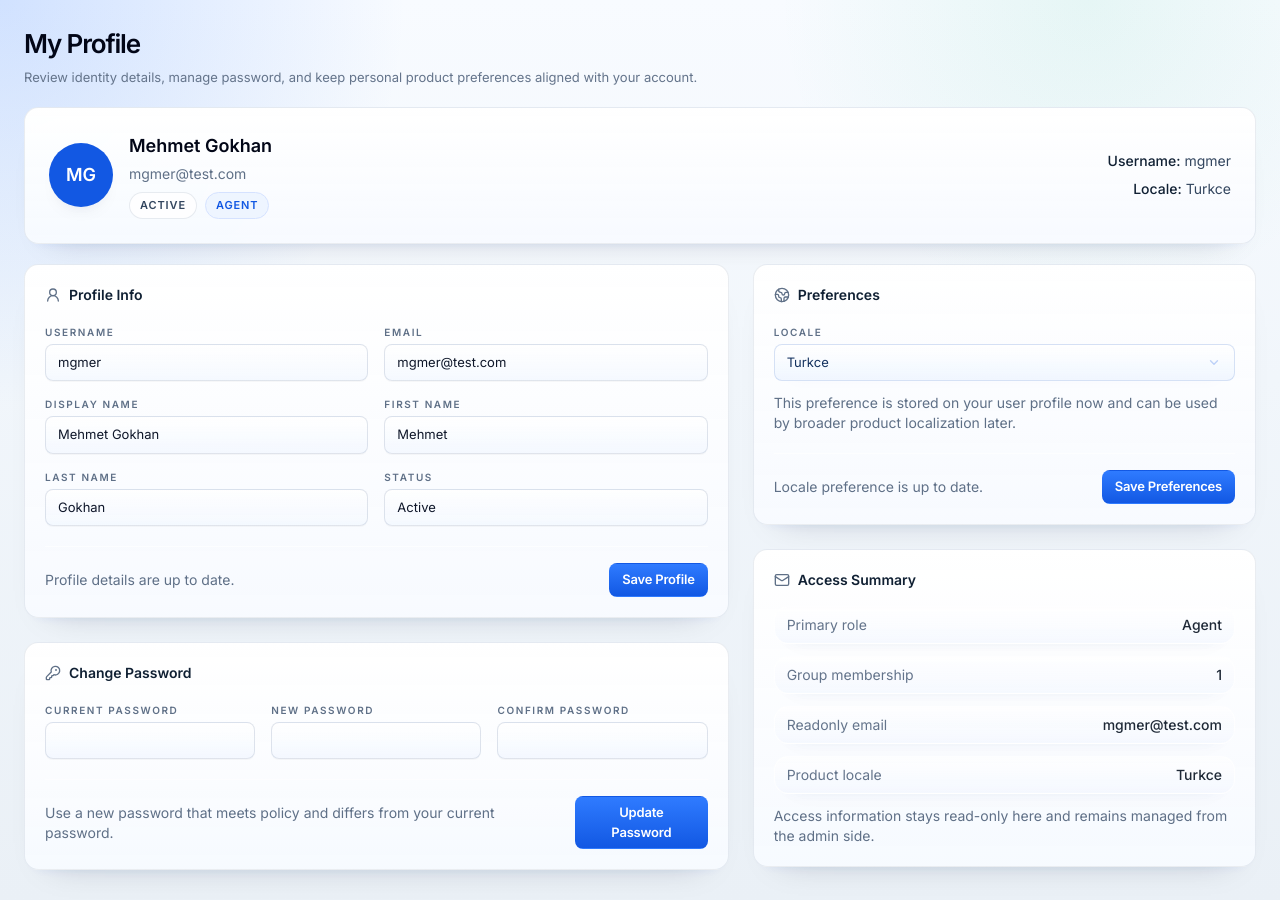
Scenario: ProfilePage › shows user-friendly backend password errors
Type "Current123" into the password field labelled "Current Password" at (150,740), box x1=45 y1=722 x2=255 y2=759
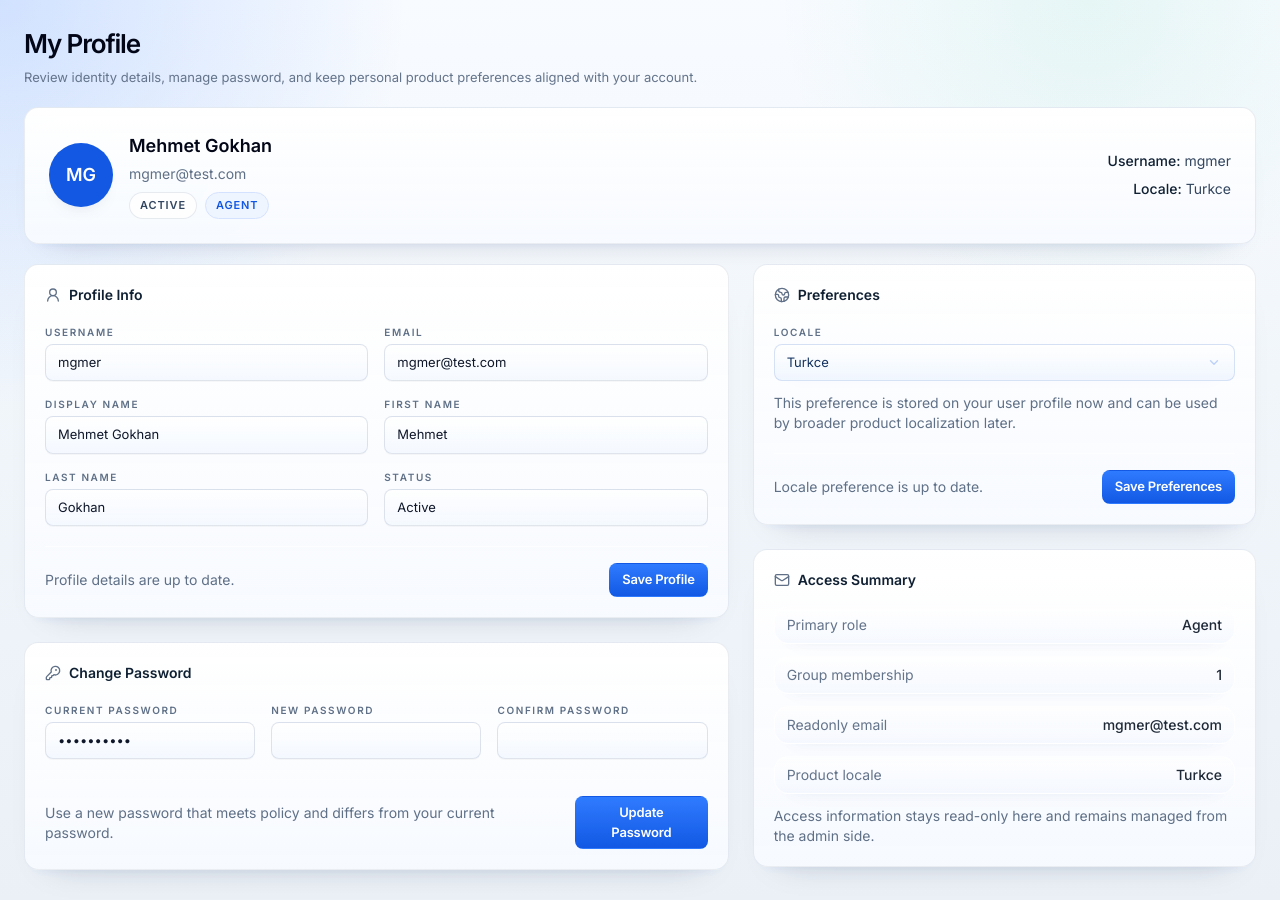
Type "NewPass123" into the password field labelled "New Password" at (376,740), box x1=271 y1=722 x2=481 y2=759
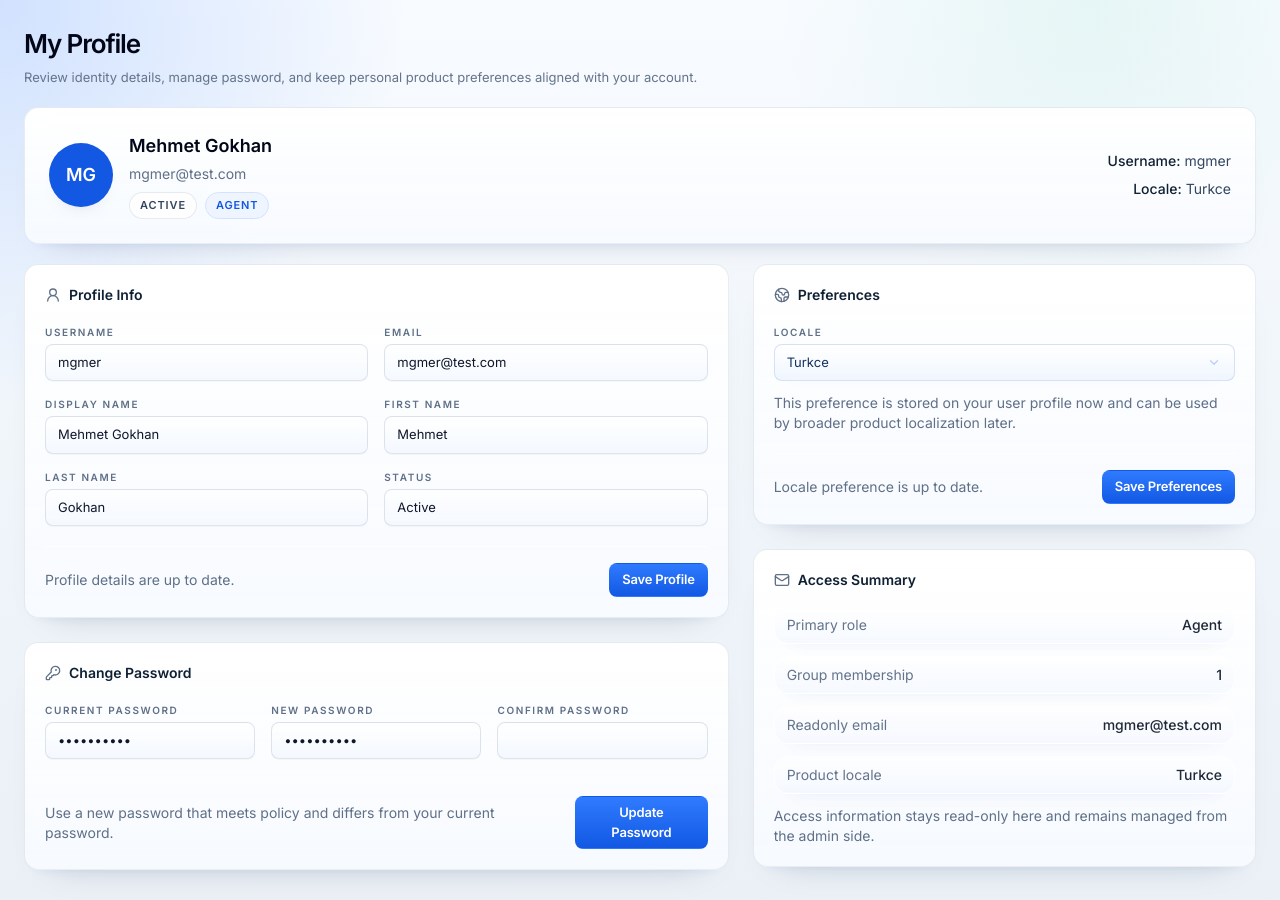
Type "NewPass123" into the password field labelled "Confirm Password" at (602,740), box x1=497 y1=722 x2=708 y2=759
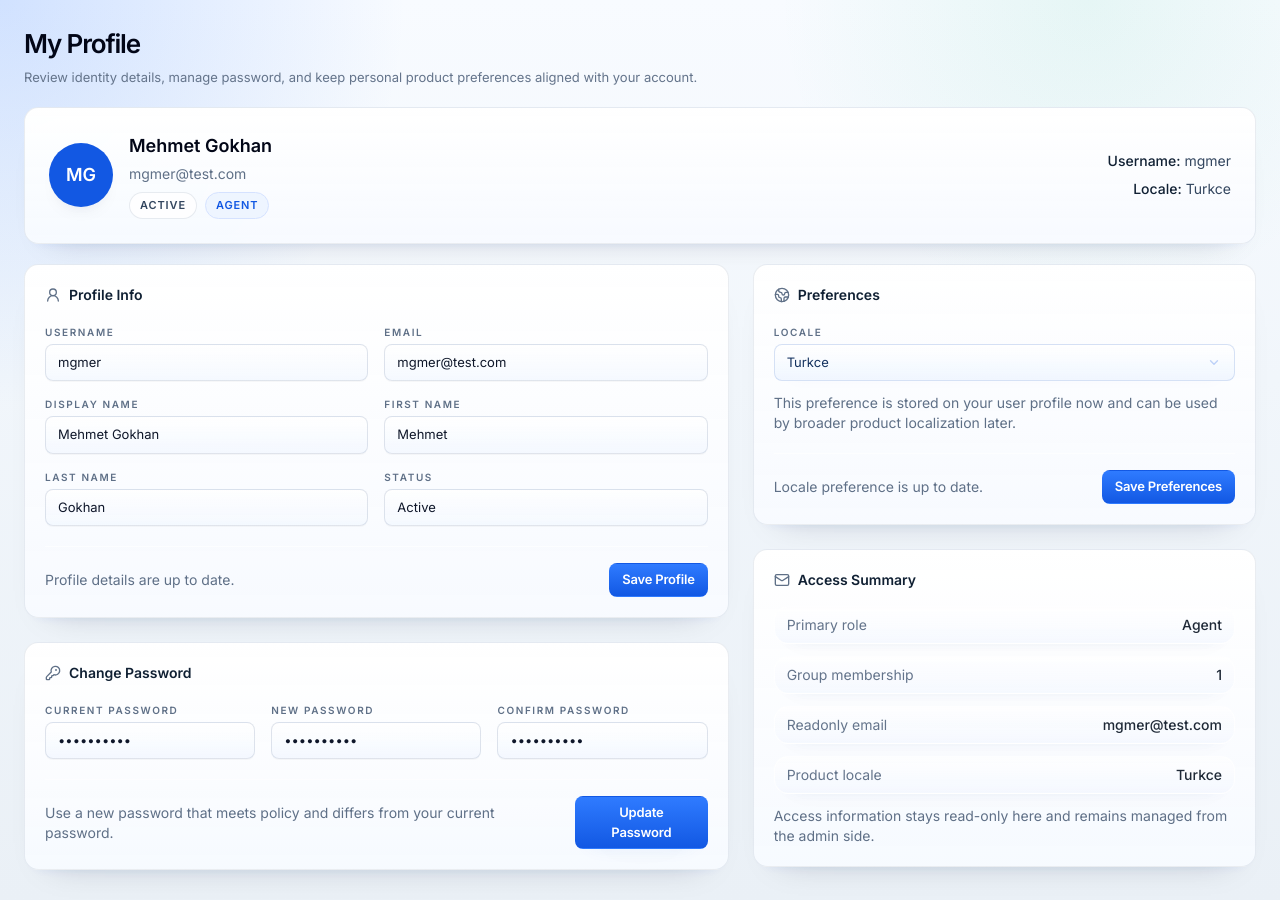
Click the button "Update Password" at (641,822), box x1=575 y1=796 x2=708 y2=849
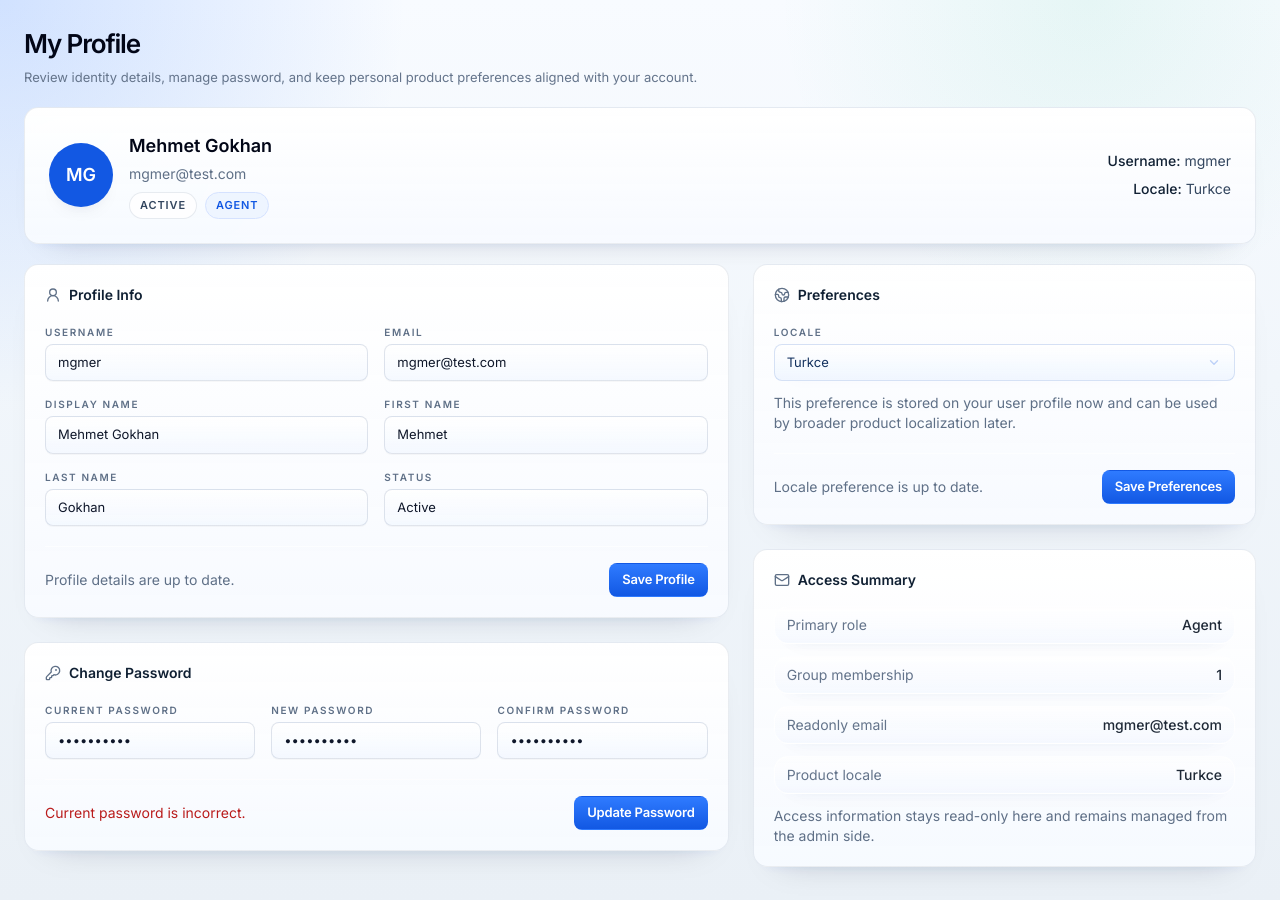
expect the text "Current password is incorrect." is shown: met, box x1=45 y1=804 x2=246 y2=821
